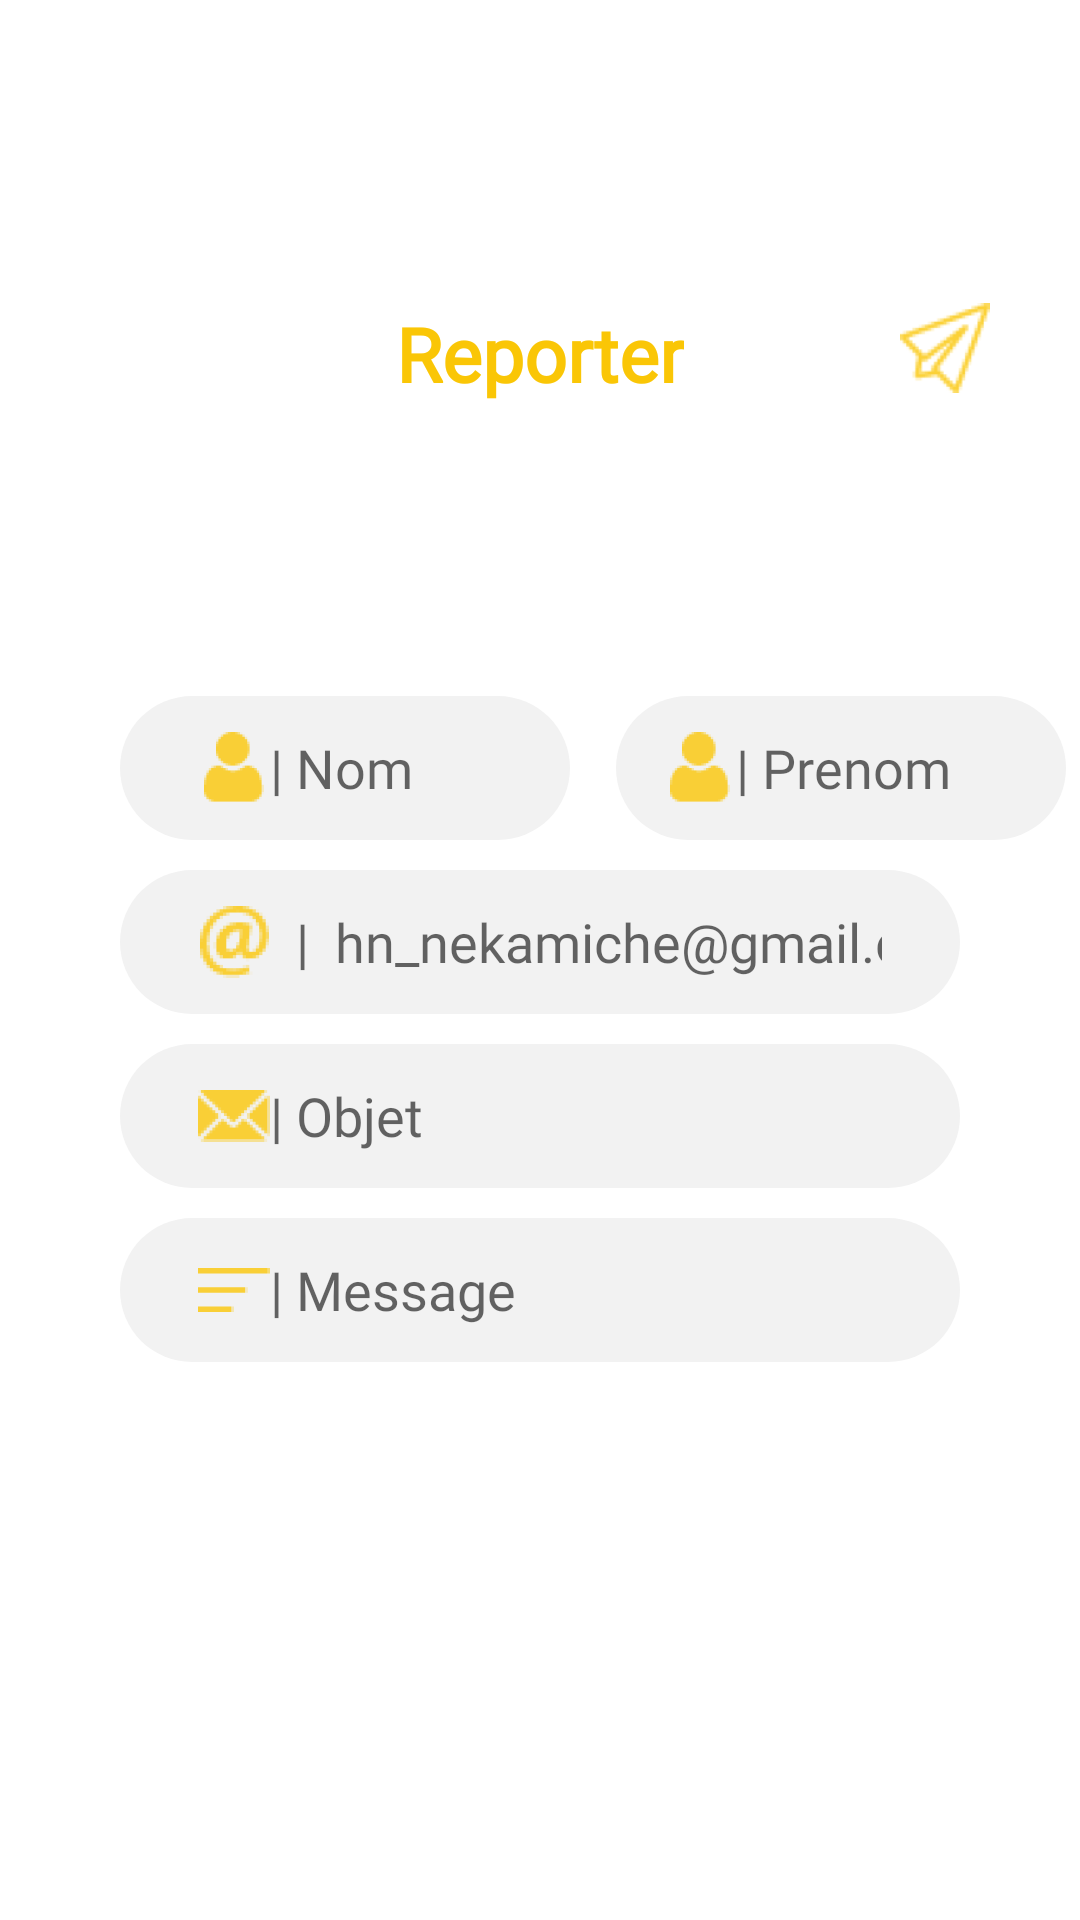

Icon click points for this 1080x1920 phone screenshot, format (x=x, y=y):
send: (x=945, y=348)
